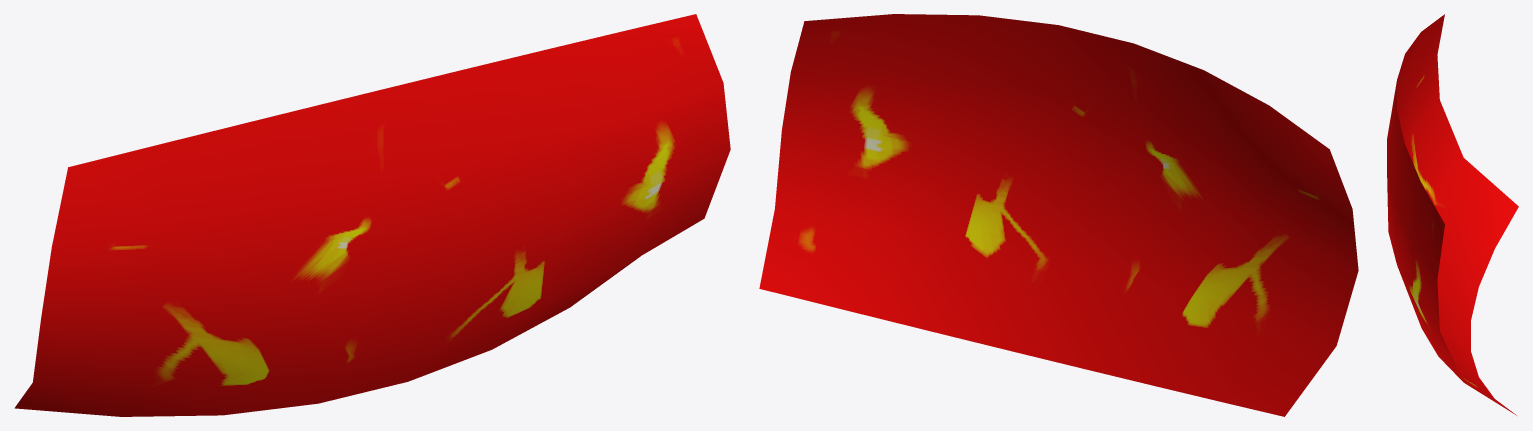
The model's file is feng1.FBX.
The picture shows the model from 3 angles, left to right: view 1: azimuth 30°, elevation 25°; view 2: azimuth 150°, elevation 25°; view 3: azimuth 270°, elevation 25°; orthographic projection. The views are drawn at different scales.
Parts seen in each view (by area): view 1: feng1; view 2: feng1; view 3: feng1.
Boxes of the visible parts, x1,y1,x2,y2 form: feng1: (14,14,730,416); feng1: (759,14,1358,416); feng1: (1387,14,1518,415).
Size of the model in its own units: 6.59 by 1.59 by 3.21.
